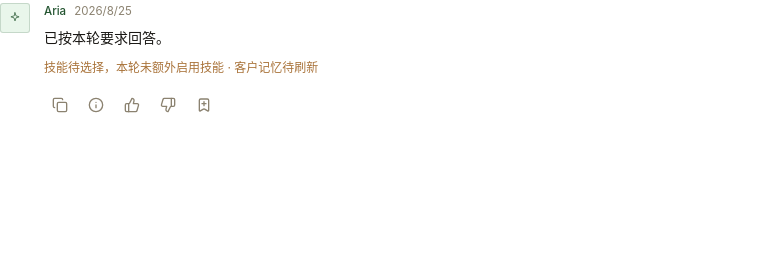
Scenario: ProjectChatMessage › shows layered memory routing and current-turn preference overrides
Click the button named "查看回答详情" at (96, 105), box top-left (80, 89), bottom-right (112, 121)
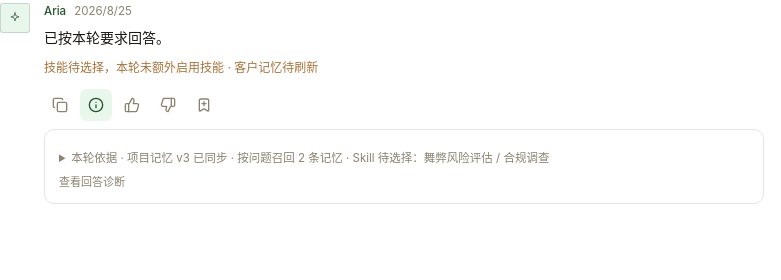
Click the heading "本轮依据" at (310, 158), box top-left (71, 151), bottom-right (550, 165)
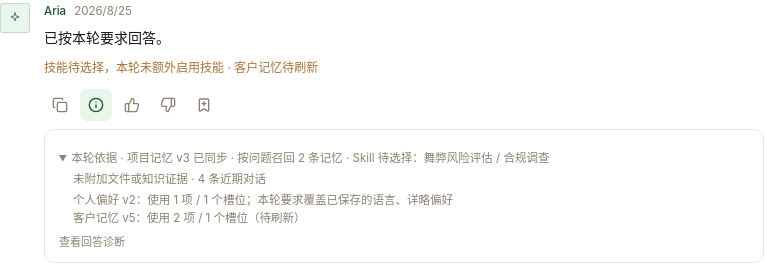
Expected: the text "覆盖已保存的语言、详略偏好" is shown, top-left (73, 193), bottom-right (453, 207)
Expected: the text "客户记忆 v5：使用 2 项 / 1 个槽位（待刷新）" is shown, top-left (73, 210), bottom-right (306, 224)
